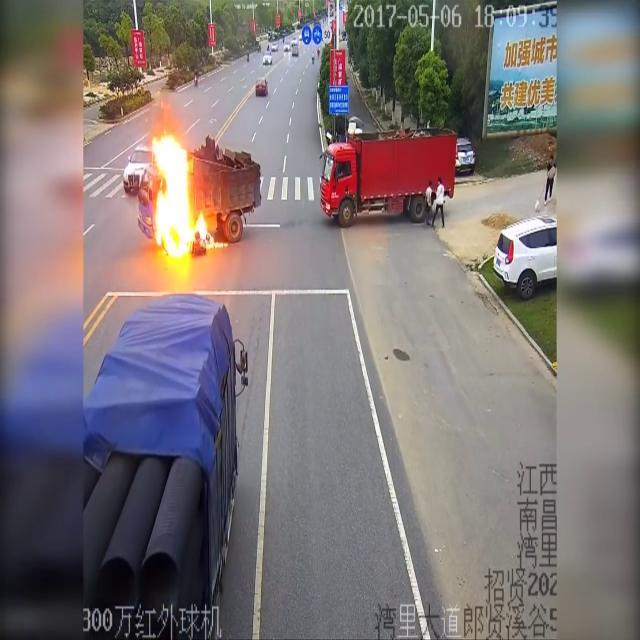Fire: (146, 123, 211, 264)
